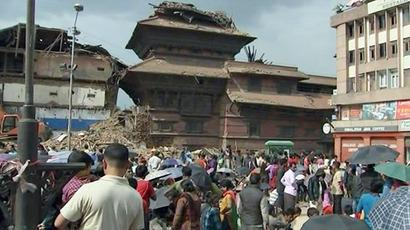major: (117, 1, 330, 151)
